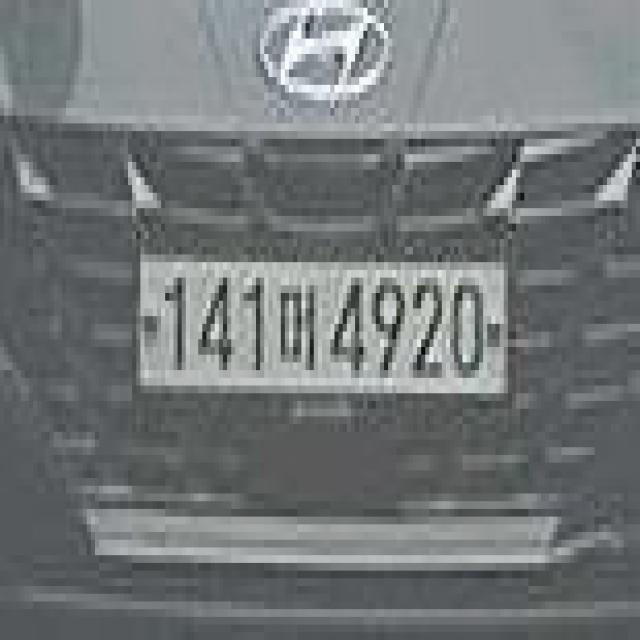illegal_plate: (139, 244, 515, 431)
